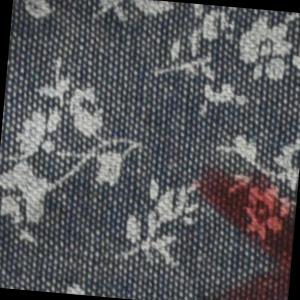Stain: (179, 162, 300, 300)
